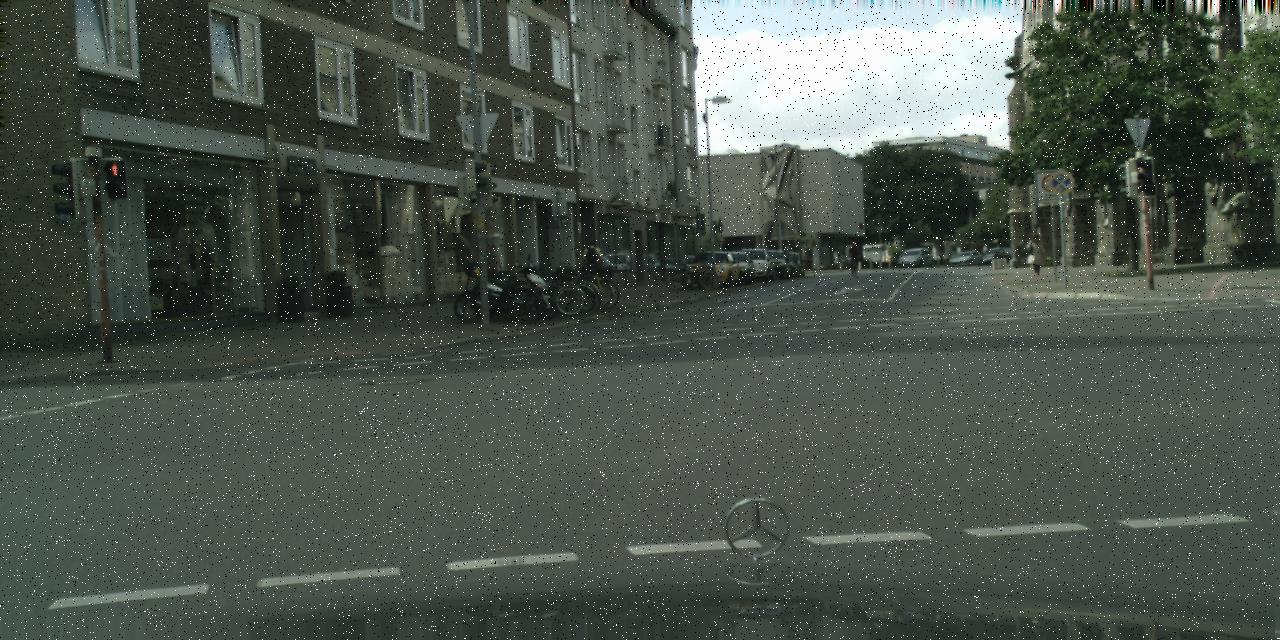ped: (584, 240, 604, 290), (1028, 233, 1044, 276), (849, 241, 860, 270)
